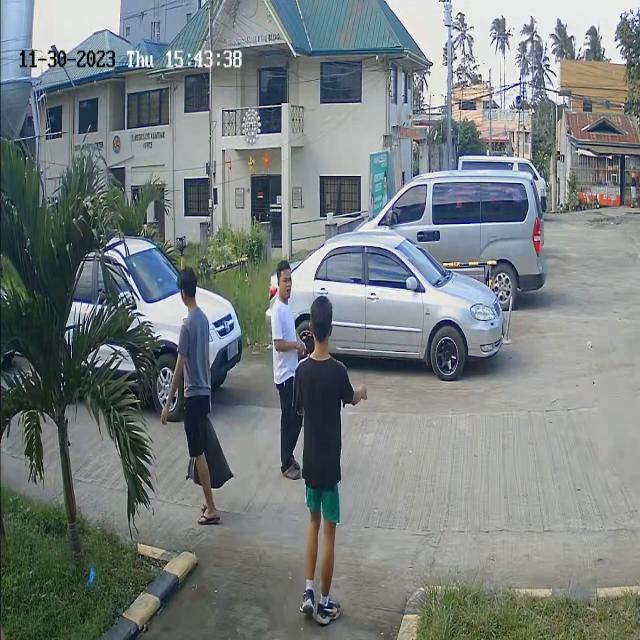garbage: (196, 419, 238, 479)
person: (295, 294, 349, 542), (171, 271, 209, 423), (270, 260, 304, 385)
